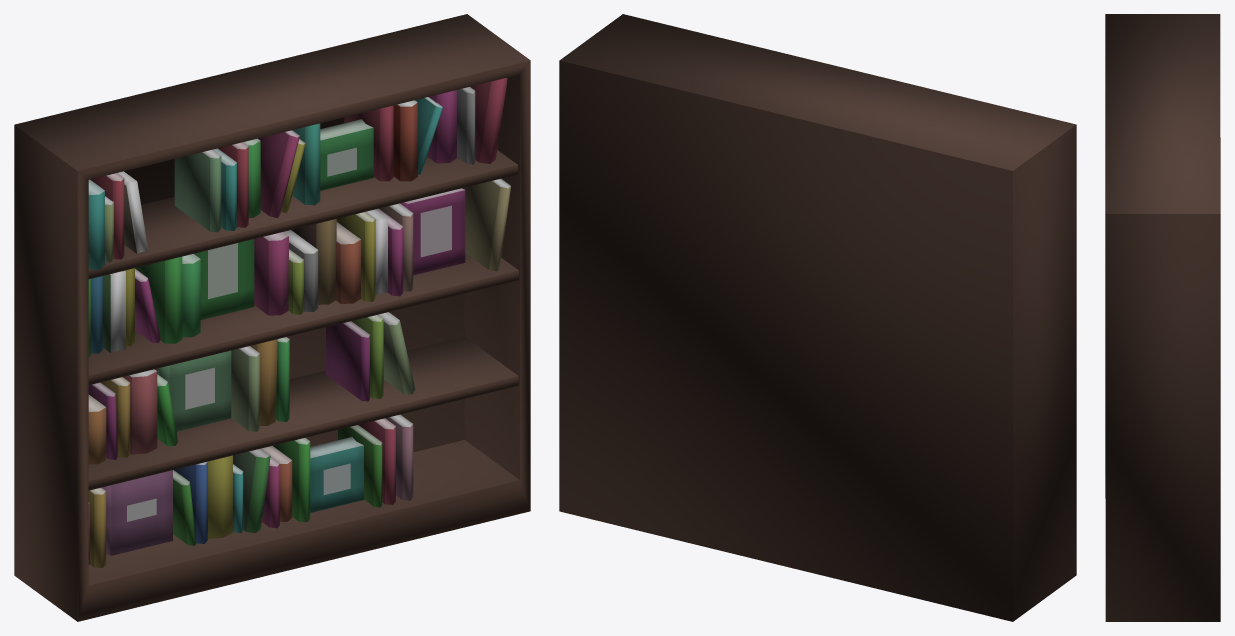
Rendered from furnishings-indoor-bookshelf_v4.glb.
3 renders of one model, left to right at view 1: azimuth 30°, elevation 25°; view 2: azimuth 150°, elevation 25°; view 3: azimuth 270°, elevation 25°, orthographic. The views are drawn at different scales.
Parts seen in each view (by area): view 1: BookShelf_v4; view 2: BookShelf_v4; view 3: BookShelf_v4.
Boxes of the visible parts, x1,y1,x2,y2 form: BookShelf_v4: [14, 14, 530, 621]; BookShelf_v4: [559, 14, 1076, 621]; BookShelf_v4: [1105, 14, 1220, 621].
Size of the model in its own units: 1.78 by 1.69 by 0.4335.
